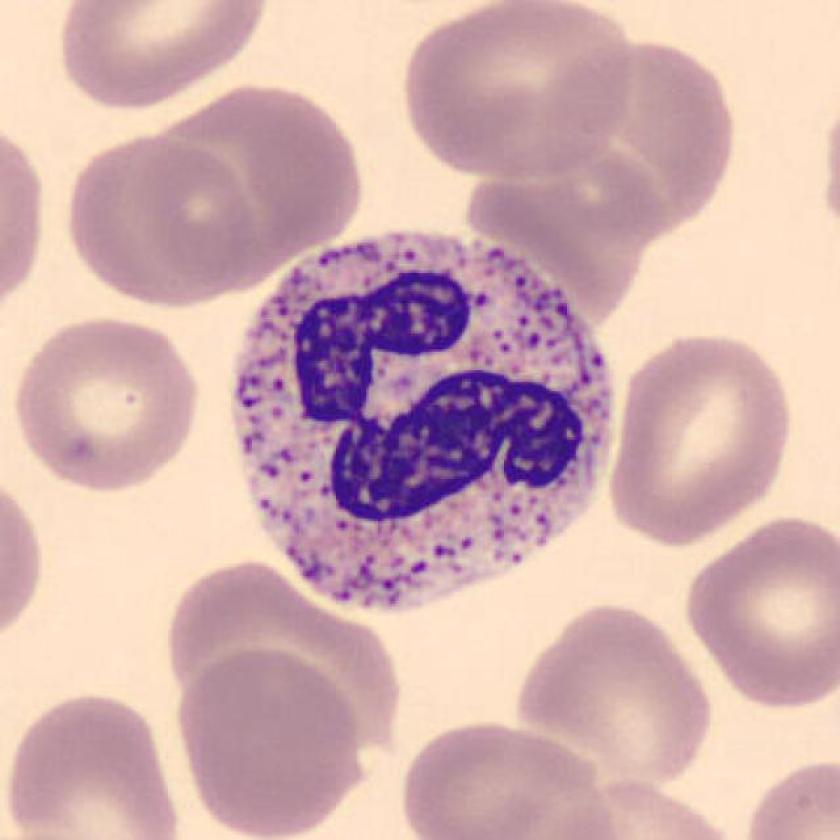neutrophil: (231, 231, 617, 610)
